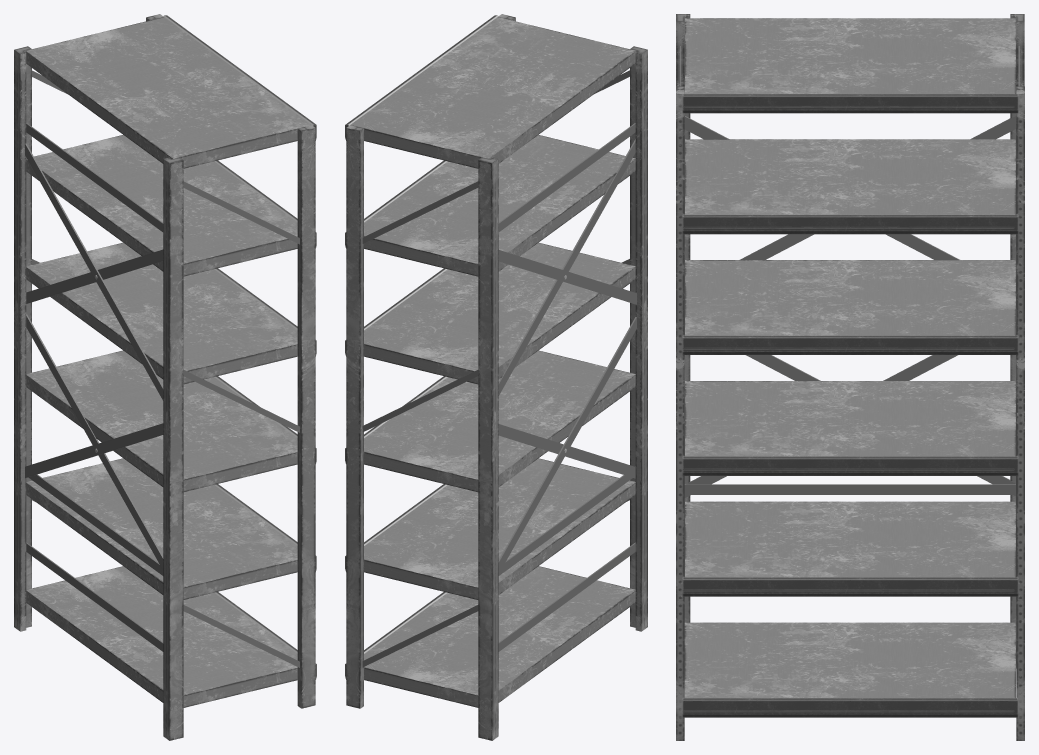
3 renders of one model, left to right at view 1: azimuth 30°, elevation 25°; view 2: azimuth 150°, elevation 25°; view 3: azimuth 270°, elevation 25°, orthographic. The views are drawn at different scales.
Visible parts, largest first — view 1: Shelf_Low; view 2: Shelf_Low; view 3: Shelf_Low.
Part boxes in pixels (left/top/right/bottom): Shelf_Low: left=14, top=14, right=316, bottom=740; Shelf_Low: left=345, top=14, right=647, bottom=740; Shelf_Low: left=676, top=14, right=1024, bottom=740.
Bounding box in the file's own units: 0.866 × 3.19 × 1.55.
Materials: 1 (1 with a texture image).
